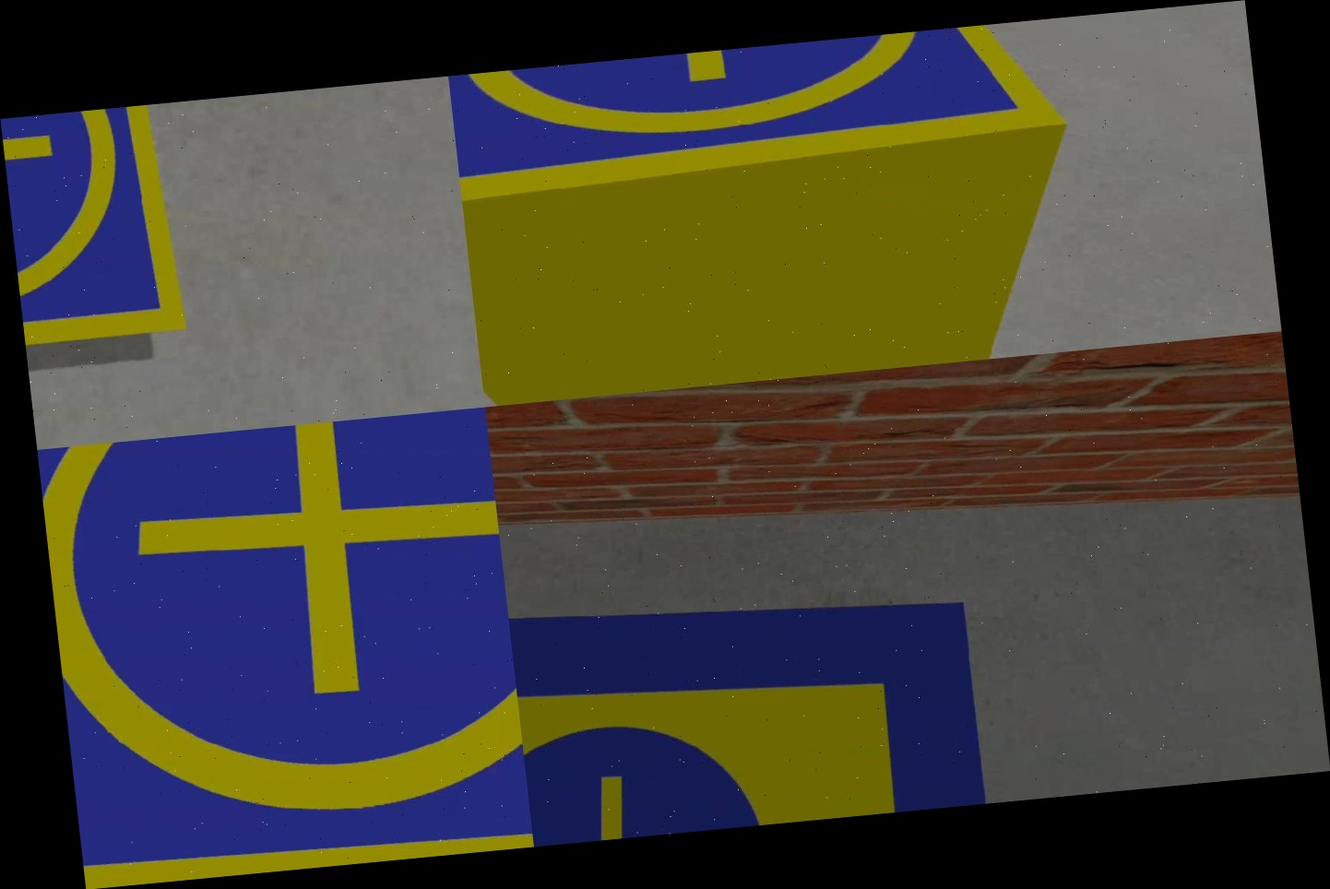large_base: (504, 525, 1022, 846)
small_base: (37, 407, 534, 889), (448, 16, 1103, 279), (0, 100, 234, 387)
